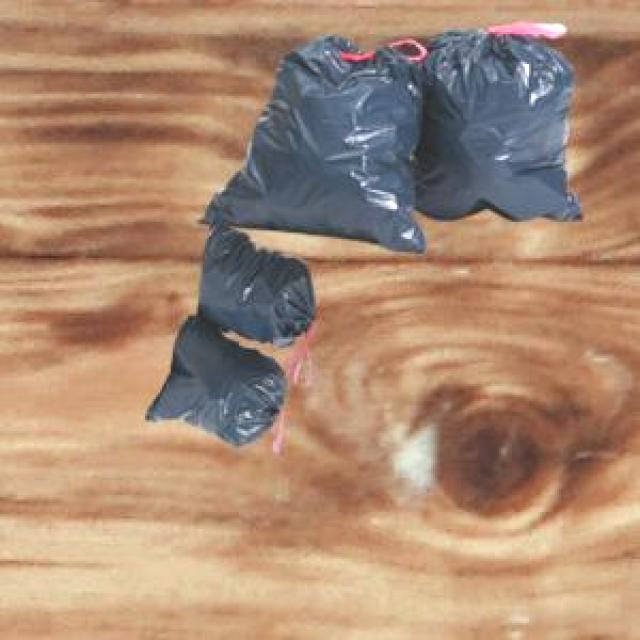Trashbag: (212, 37, 428, 257), (410, 25, 586, 227), (138, 323, 294, 447), (193, 228, 320, 345)
